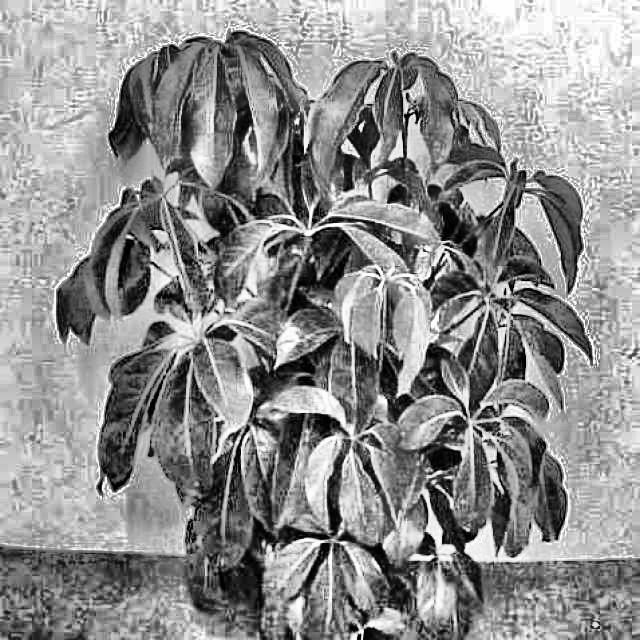plants: (44, 16, 599, 638)
